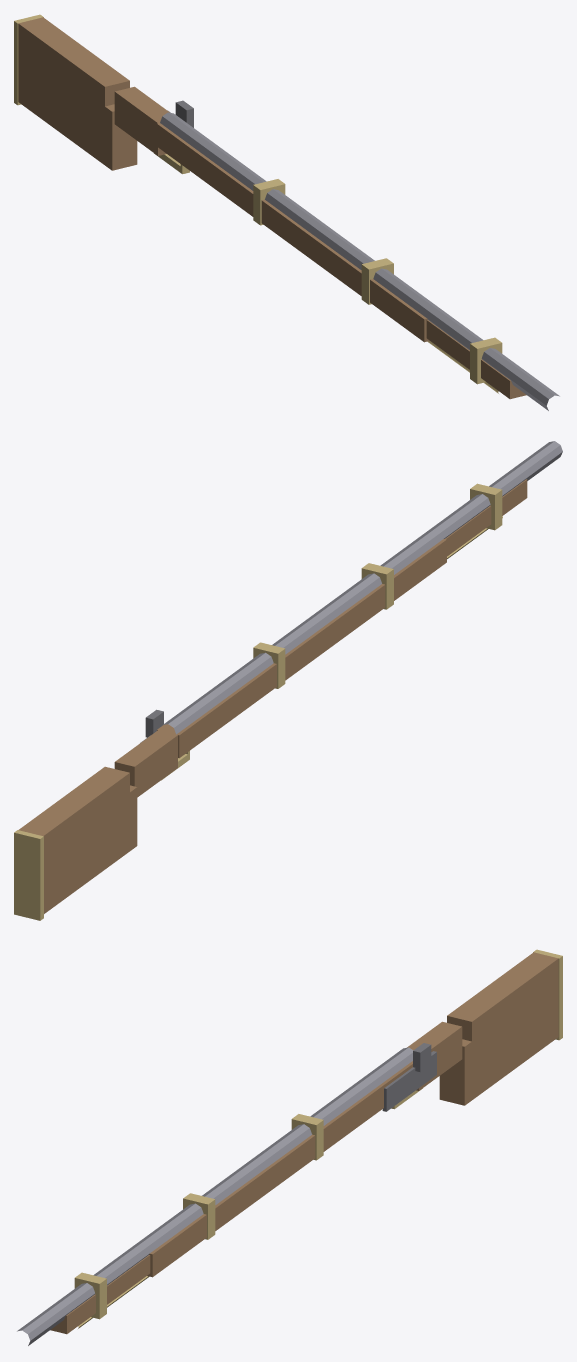
Rendered from musket.glb.
3 views of the same model, one above another, from view 1: azimuth 30°, elevation 25°; view 2: azimuth 150°, elevation 25°; view 3: azimuth 330°, elevation 25° (orthographic).
Visible parts, largest first — view 1: prop; view 2: prop; view 3: prop.
Part boxes in pixels (left/top/right/bottom): prop: left=14, top=14, right=559, bottom=410; prop: left=14, top=441, right=562, bottom=920; prop: left=17, top=949, right=562, bottom=1345.
Bounding box in the file's own units: 0.051 × 0.145 × 1.46.
